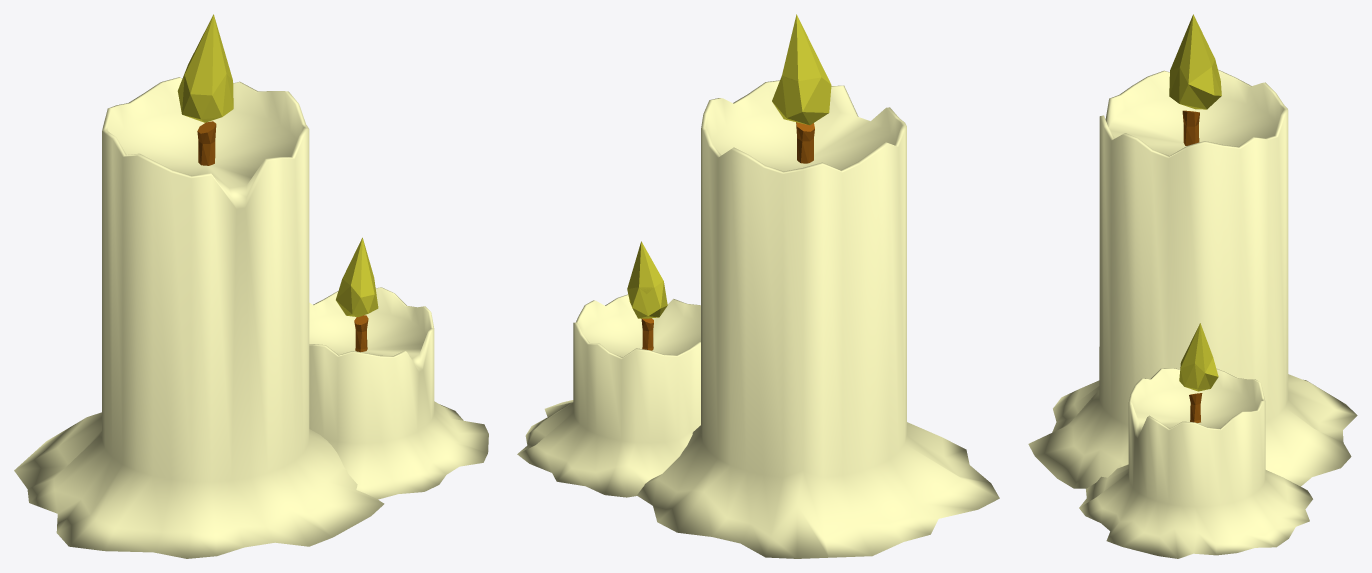
File: candle2.fbx
3 renders of one model, left to right at view 1: azimuth 30°, elevation 25°; view 2: azimuth 150°, elevation 25°; view 3: azimuth 270°, elevation 25°, orthographic. The views are drawn at different scales.
Parts seen in each view (by area): view 1: Cylinder.005; view 2: Cylinder.005; view 3: Cylinder.005.
Boxes of the visible parts, box(x1,y1,x2,y2) form: Cylinder.005: box(14, 14, 488, 558); Cylinder.005: box(517, 14, 999, 558); Cylinder.005: box(1028, 14, 1357, 558).
Size of the model in its own units: 87.89 by 89.92 by 62.75.
